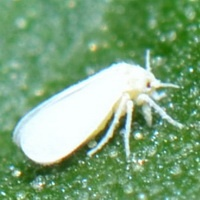insect: (13, 62, 182, 164)
